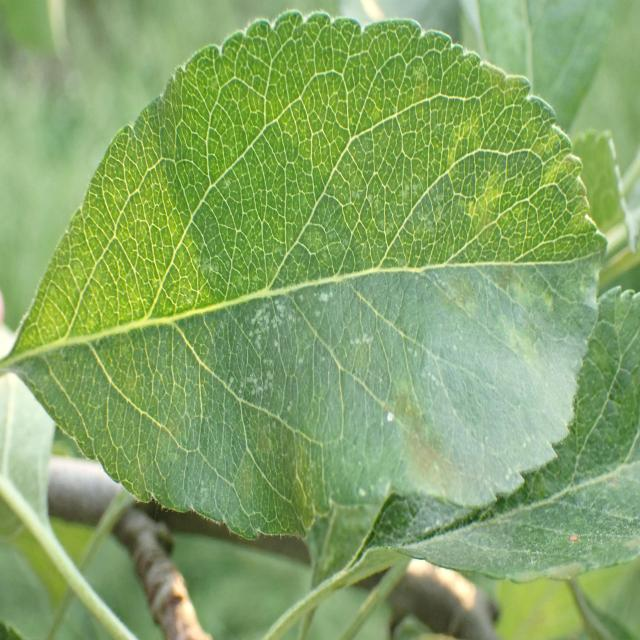scab: (413, 240, 584, 354), (379, 370, 464, 530)
